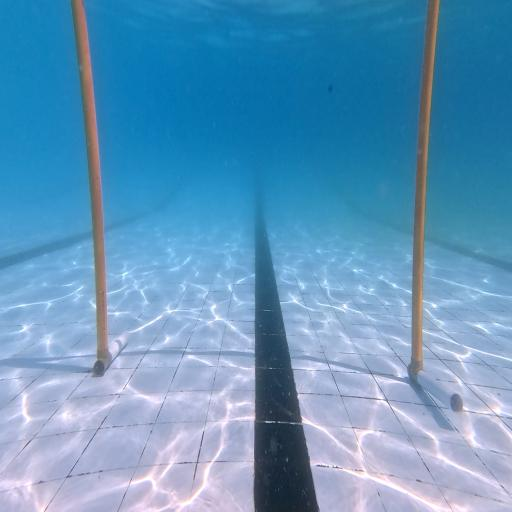gate: (71, 1, 463, 413)
